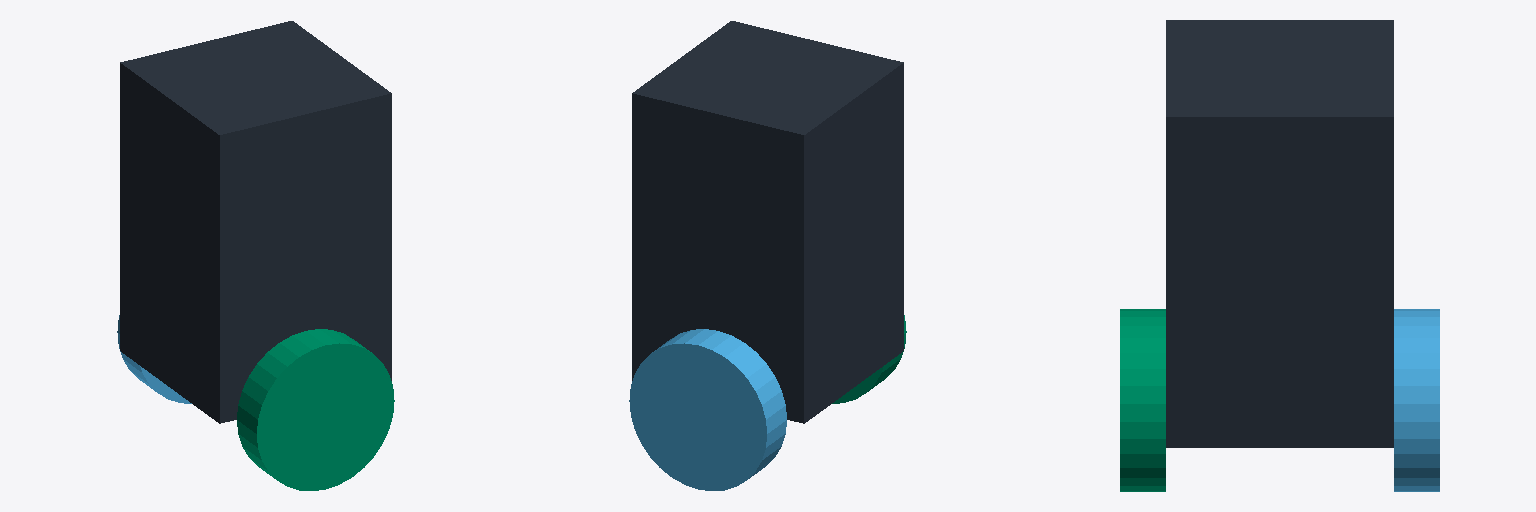
URDF robot description (m2wr):
<?xml version="1.0" ?>

<robot name="m2wr" xmlns:xacro="https://www.ros.org/wiki/xacro" >
    
  <material name="black">
    <color rgba="0.0 0.0 0.0 1.0"/>
  </material>
  <material name="blue">
    <color rgba="0.203125 0.23828125 0.28515625 1.0"/>
  </material>
  <material name="green">
    <color rgba="0.0 0.8 0.0 1.0"/>
  </material>
  <material name="grey">
    <color rgba="0.2 0.2 0.2 1.0"/>
  </material>
  <material name="orange">
    <color rgba="1.0 0.423529411765 0.0392156862745 1.0"/>
  </material>
  <material name="brown">
    <color rgba="0.870588235294 0.811764705882 0.764705882353 1.0"/>
  </material>
  <material name="red">
    <color rgba="0.80078125 0.12890625 0.1328125 1.0"/>
  </material>
  <material name="white">
    <color rgba="1.0 1.0 1.0 1.0"/>
  </material>  
  
  <gazebo reference="link_chassis">
    <material>Gazebo/Orange</material>
  </gazebo>
  <gazebo reference="link_left_wheel">
    <material>Gazebo/Blue</material>
  </gazebo>
  <gazebo reference="link_right_wheel">
    <material>Gazebo/Blue</material>
  </gazebo>
    
  <link name="link_chassis">
    <!-- pose and inertial -->
    <pose>0 0 0 0 0 0</pose>
    
    <inertial>
      <mass value="5"/>
      <origin rpy="0 0 0" xyz="0 0 0.1"/>
      <inertia ixx="0.0395416666667" ixy="0" ixz="0" iyy="0.106208333333" iyz="0" izz="0.106208333333"/>
    </inertial>
    
    <collision name="collision_chassis">
      <geometry>
        <box size="0.5 0.5 0.8"/>
      </geometry>
    </collision>
    
    <visual>
      <origin rpy="0 0 0" xyz="0 0 0"/>
      <geometry>
        <box size="0.5 0.5 0.8"/>
      </geometry>
      <material name="blue"/>
    </visual>
    
    <!-- caster front -->
    <!--<collision name="caster_front_collision">
      <origin rpy=" 0 0 0" xyz="0.35 0 -0.05"/>
      <geometry>
        <sphere radius="0.05"/>
      </geometry>
      <surface>
        <friction>
          <ode>
            <mu>0</mu>
            <mu2>0</mu2>
            <slip1>1.0</slip1>
            <slip2>1.0</slip2>
          </ode>
        </friction>
      </surface>
    </collision>
    <visual name="caster_front_visual">
      <origin rpy=" 0 0 0" xyz="0.2 0 -0.05"/>
      <geometry>
        <sphere radius="0.05"/>
      </geometry>
    </visual>-->
    </link>
  
  <!-- Create wheel right -->  
    
  <link name="link_right_wheel">    
    <inertial>
      <mass value="0.2"/>
      <origin rpy="0 1.5707 1.5707" xyz="0 0 0"/>
      <inertia ixx="0.00052666666" ixy="0" ixz="0" iyy="0.00052666666" iyz="0" izz="0.001"/>
    </inertial>
    
    <collision name="link_right_wheel_collision">
      <origin rpy="0 1.5707 1.5707" xyz="0 0 0" />
      <geometry>
        <cylinder length="0.1" radius="0.2"/>
      </geometry>
    </collision>
    
    <visual name="link_right_wheel_visual">
      <origin rpy="0 1.5707 1.5707" xyz="0 0 0"/>
      <geometry>
        <cylinder length="0.1" radius="0.2"/>
      </geometry>      
    </visual>
    
  </link>
    
  <!--   Joint for right wheel  -->
  <joint name="joint_right_wheel" type="continuous">
    <origin rpy="0 0 0" xyz="0 0.3 -0.4"/>
    <child link="link_right_wheel" />
    <parent link="link_chassis"/>
    <axis rpy="0 0 0" xyz="0 -1 0"/>
    <limit effort="10000" velocity="1000"/>
    <joint_properties damping="1.0" friction="1.0" />
  </joint>  
    
  <!-- Left Wheel link -->
    
  <link name="link_left_wheel">    
    <inertial>
      <mass value="0.2"/>
      <origin rpy="0 1.5707 1.5707" xyz="0 0 0"/>
      <inertia ixx="0.00052666666" ixy="0" ixz="0" iyy="0.00052666666" iyz="0" izz="0.001"/>
    </inertial>
    
    <collision name="link_left_wheel_collision">
      <origin rpy="0 1.5707 1.5707" xyz="0 0 0" />
      <geometry>
        <cylinder length="0.1" radius="0.2"/>
      </geometry>
    </collision>
    
    <visual name="link_left_wheel_visual">
      <origin rpy="0 1.5707 1.5707" xyz="0 0 0"/>
      <geometry>
        <cylinder length="0.1" radius="0.2"/>
      </geometry>      
    </visual>
    
  </link>
    
  <!--   Joint for right wheel  -->
  <joint name="joint_left_wheel" type="continuous">
    <origin rpy="0 0 0" xyz="0 -0.3 -0.4"/>
    <child link="link_left_wheel" />
    <parent link="link_chassis"/>
    <axis rpy="0 0 0" xyz="0 1 0"/>
    <limit effort="10000" velocity="1000"/>
    <joint_properties damping="1.0" friction="1.0" />
  </joint> 
  
  
  
     
  <gazebo>
    <plugin name="differential_drive_controller" filename="libgazebo_ros_diff_drive.so">
      <update_rate>20</update_rate>
      <left_joint>joint_left_wheel</left_joint>
      <right_joint>joint_right_wheel</right_joint>
      <wheel_separation>0.4</wheel_separation>
      <wheel_diameter>0.2</wheel_diameter>
      <wheel_torque>0.1</wheel_torque>
      <command_topic>cmd_vel</command_topic>
      <odometry_topic>odom</odometry_topic>
      <odometry_frame>odom</odometry_frame>
      <robot_base_frame>link_chassis</robot_base_frame>
    </plugin>
    
  	
 
  </gazebo>
  <gazebo reference="link_chassis">
  	<sensor name="my_imu" type="imu">
	    <always_on>true</always_on>
	    <!-- Publish at 30 hz -->
	    <update_rate>30</update_rate>
	    <plugin name="my_imu_plugin" filename="libgazebo_ros_imu_sensor.so">
	      <ros>
		<!-- Will publish to /imu/data -->
		<namespace>/imu</namespace>
		<remapping>~/out:=data</remapping>
	      </ros>
	      <frame_name>link_chassis</frame_name>
	      <initial_orientation_as_reference>false</initial_orientation_as_reference>
	    </plugin>
  	</sensor>
  </gazebo>
  <gazebo>
    <plugin name="gazebo_ros_state" filename="libgazebo_ros_state.so">
    <ros>
      <namespace>/</namespace>
      <remapping>model_states:=model_states_demo</remapping>
      <remapping>link_states:=link_states_demo</remapping>
    </ros>
    <update_rate>50.0</update_rate>
  </plugin>
  </gazebo>
  
  
</robot>

--- Render facts (derived) ---
3 views of the same robot in one strip: view 1: azimuth 30°, elevation 25°; view 2: azimuth 150°, elevation 25°; view 3: azimuth 270°, elevation 25° (orthographic).
Model m2wr with 3 links and 2 joints (2 continuous), rooted at link_chassis, posed all joints at 0.
Visible links, largest first — view 1: link_chassis, link_left_wheel, link_right_wheel; view 2: link_chassis, link_right_wheel, link_left_wheel; view 3: link_chassis, link_right_wheel, link_left_wheel.
Boxes of the visible links, bbox=[...] form: link_chassis: bbox=[120, 21, 391, 423]; link_left_wheel: bbox=[237, 329, 394, 490]; link_right_wheel: bbox=[117, 315, 191, 403]; link_chassis: bbox=[632, 21, 903, 423]; link_right_wheel: bbox=[629, 329, 786, 490]; link_left_wheel: bbox=[832, 315, 906, 403]; link_chassis: bbox=[1166, 20, 1393, 447]; link_right_wheel: bbox=[1394, 309, 1439, 491]; link_left_wheel: bbox=[1120, 309, 1165, 491].
Bounding box of the posed robot: 0.5 × 0.7001 × 1 m (x, y, z).
Geometry: primitives only (box / cylinder / sphere), no mesh files.